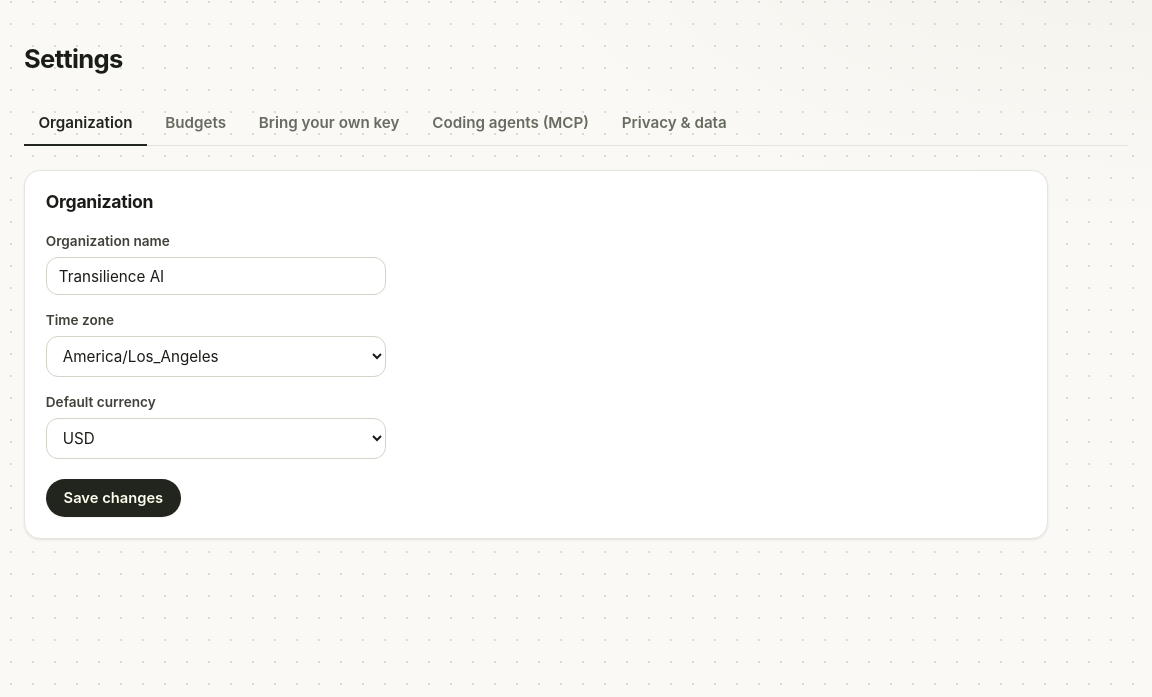
Test: SettingsPage › opens on Organization, with the other sections behind their tabs
Check: the heading "Organization" is shown, box 46,191 -> 153,212
Check: the field labelled "Organization name" holds "Transilience AI", box 46,257 -> 386,295
Click the tab "Privacy & data": [674, 123] box 607,101 -> 741,146
(page scrolled)
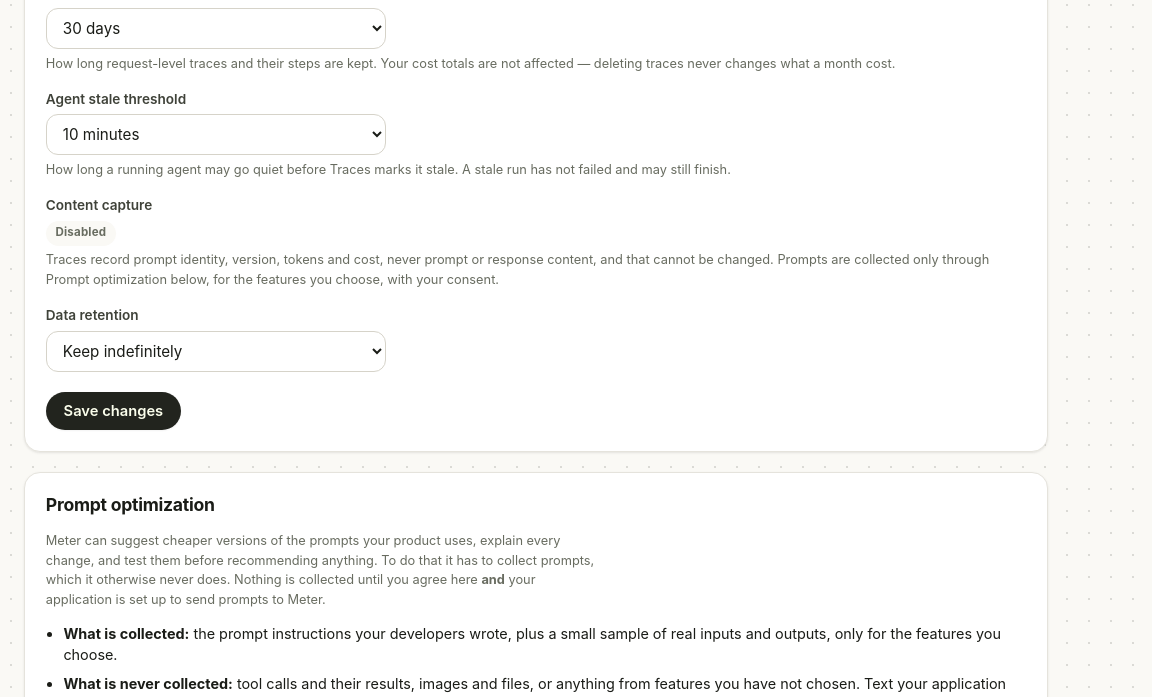
Check: the dropdown labelled "Data retention" shows "Keep indefinitely", box 46,331 -> 386,372
